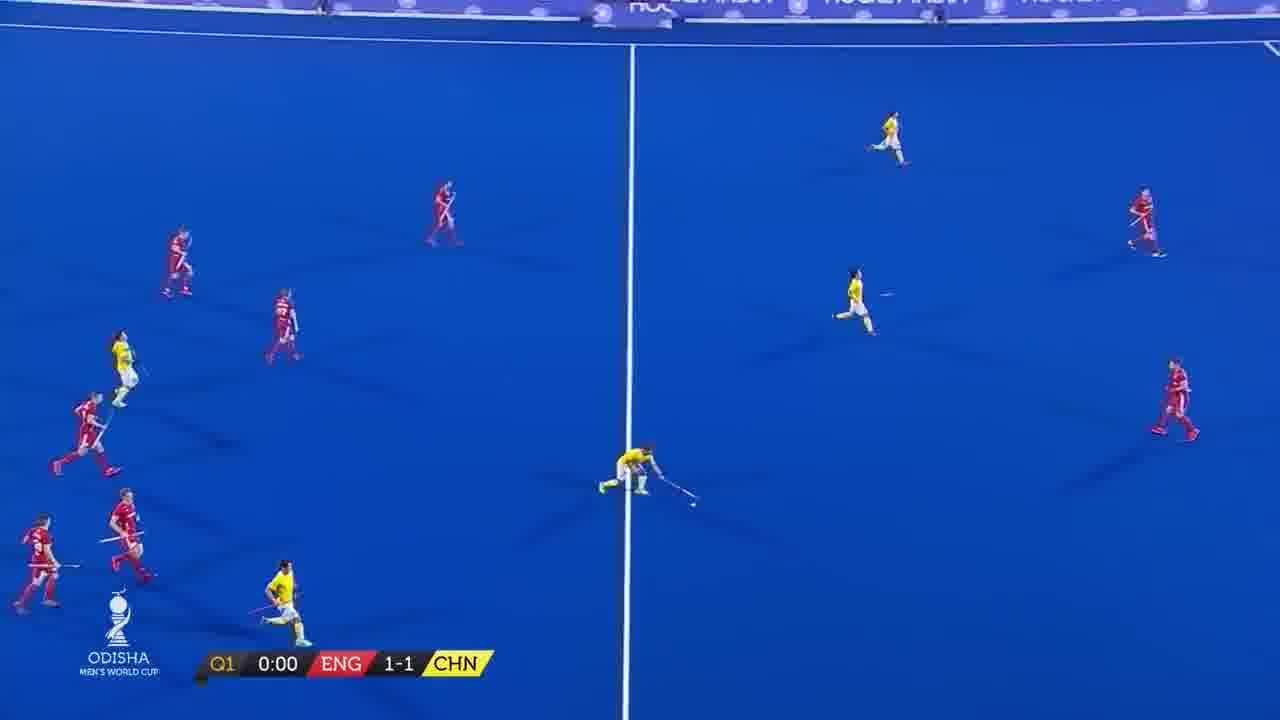ball: (691, 502, 698, 509)
